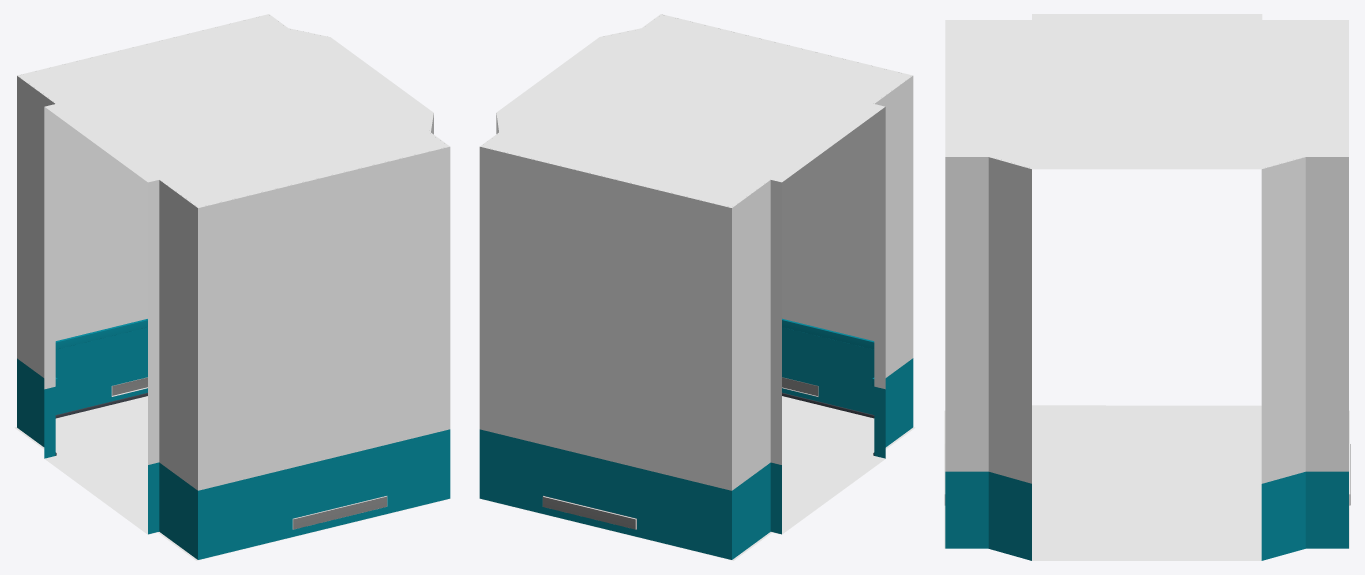
3 views of the same model, side by side, from view 1: azimuth 30°, elevation 25°; view 2: azimuth 150°, elevation 25°; view 3: azimuth 270°, elevation 25° (orthographic). The views are drawn at different scales.
Parts seen in each view (by area): view 1: SM_H_Building_FutureTech_HLight_01_InterWall_09; view 2: SM_H_Building_FutureTech_HLight_01_InterWall_09; view 3: SM_H_Building_FutureTech_HLight_01_InterWall_09.
Boxes of the visible parts, <box> form: SM_H_Building_FutureTech_HLight_01_InterWall_09: <box>14,14,450,560</box>; SM_H_Building_FutureTech_HLight_01_InterWall_09: <box>479,14,915,560</box>; SM_H_Building_FutureTech_HLight_01_InterWall_09: <box>944,14,1350,560</box>.
Size of the model in its own units: 649 by 589 by 691.
